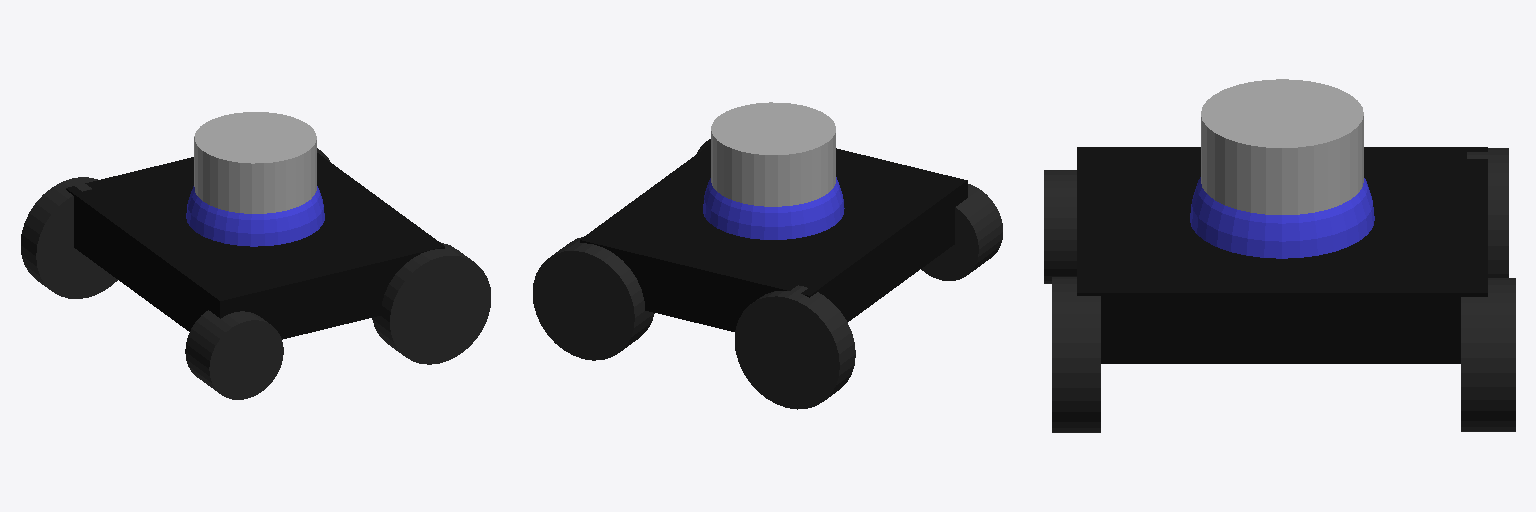
URDF robot description (evolved_robot):
<?xml version="1.0"?>
<robot name="evolved_robot">
  <material name="metal">
    <color rgba="0.7 0.7 0.7 1.0"/>
  </material>
  <material name="plastic">
    <color rgba="0.3 0.3 0.9 1.0"/>
  </material>
  <material name="rubber">
    <color rgba="0.1 0.1 0.1 1.0"/>
  </material>
  <material name="red">
    <color rgba="1.0 0.0 0.0 1.0"/>
  </material>
  <material name="wheel_material">
    <color rgba="0.2 0.2 0.2 1.0"/>
  </material>
  <link name="base_link">
    <visual>
      <geometry><box size="0.31868811290000654 0.3792780450720862 0.07231409833017642"/></geometry>
      <material name="rubber"/>
    </visual>
    <collision>
      <geometry><box size="0.31868811290000654 0.3792780450720862 0.07231409833017642"/></geometry>
    </collision>
    <inertial>
      <mass value="5.0"/>
      <inertia ixx="0.12423430357584153" ixy="0" ixz="0" 
               iyy="0.08899286843422811" iyz="0" 
               izz="0.2045116239812256"/>
    </inertial>
  </link>
  <link name="link1">
    <visual>
      <geometry><sphere radius="0.08527737862329111"/></geometry>
      <material name="plastic"/>
    </visual>
    <collision>
      <geometry><sphere radius="0.08527737862329111"/></geometry>
    </collision>
    <inertial>
      <mass value="0.5"/>
      <inertia ixx="0.0029088925219440593" ixy="0" ixz="0" 
               iyy="0.0029088925219440593" iyz="0" 
               izz="0.0029088925219440593"/>
    </inertial>
  </link>
  <joint name="joint1" type="revolute">
    <parent link="base_link"/>
    <child link="link1"/>
    <origin xyz="0 0 0.03615704916508821" rpy="0 0 0"/>
    <axis xyz="-0.4916056793405732 -0.6820093759715992 0.5414675125313831"/>
    <dynamics damping="0.8212211505894433" friction="0.1"/>
    <limit lower="-1.7792998006709766" upper="1.4960121739306087" effort="100" velocity="100"/>
  </joint>
  <link name="link2">
    <visual>
      <geometry>
        <cylinder radius="0.07097114032061219" length="0.050351103594577395"/>
      </geometry>
      <material name="wheel_material"/>
    </visual>
    <collision>
      <geometry>
        <cylinder radius="0.07097114032061219" length="0.050351103594577395"/>
      </geometry>
    </collision>
    <inertial>
      <mass value="1.0"/>
      <inertia ixx="0.0014704951590346618" ixy="0" ixz="0" 
               iyy="0.0014704951590346618" iyz="0" 
               izz="0.002518451379204013"/>
    </inertial>
  </link>
  <joint name="joint2" type="continuous">
    <parent link="base_link"/>
    <child link="link2"/>
    <origin xyz="0.13934405645000328 0.1896390225360431 -0.03615704916508821" rpy="1.5708 0 0"/>
    <axis xyz="0 1 0"/>
    <dynamics damping="0.9114541544746585" friction="0.1"/>
  </joint>
  <link name="link3">
    <visual>
      <geometry>
        <cylinder radius="0.07202321520114786" length="0.04571595030227395"/>
      </geometry>
      <material name="wheel_material"/>
    </visual>
    <collision>
      <geometry>
        <cylinder radius="0.07202321520114786" length="0.04571595030227395"/>
      </geometry>
    </collision>
    <inertial>
      <mass value="1.0"/>
      <inertia ixx="0.0014709982246477126" ixy="0" ixz="0" 
               iyy="0.0014709982246477126" iyz="0" 
               izz="0.0025936717639554285"/>
    </inertial>
  </link>
  <joint name="joint3" type="continuous">
    <parent link="base_link"/>
    <child link="link3"/>
    <origin xyz="0.13934405645000328 -0.1896390225360431 -0.03615704916508821" rpy="1.5708 0 0"/>
    <axis xyz="0 1 0"/>
    <dynamics damping="0.47926926660158287" friction="0.1"/>
  </joint>
  <link name="link4">
    <visual>
      <geometry><cylinder radius="0.07517385326990765" length="0.11537410210458039"/></geometry>
      <material name="metal"/>
    </visual>
    <collision>
      <geometry><cylinder radius="0.07517385326990765" length="0.11537410210458039"/></geometry>
    </collision>
    <inertial>
      <mass value="0.5"/>
      <inertia ixx="0.0025220423402312463" ixy="0" ixz="0" 
               iyy="0.0025220423402312463" iyz="0" 
               izz="0.0028255541077228026"/>
    </inertial>
  </link>
  <joint name="joint4" type="revolute">
    <parent link="base_link"/>
    <child link="link4"/>
    <origin xyz="0 0 0.0861570491650882" rpy="0 0 0"/>
    <axis xyz="0.01314496839488213 0.9990852397421637 -0.04069267176336153"/>
    <dynamics damping="0.9696960948946988" friction="0.1"/>
    <limit lower="-1.364467053086561" upper="1.4241059923867079" effort="100" velocity="100"/>
  </joint>
  <link name="link5">
    <visual>
      <geometry>
        <cylinder radius="0.07305448652505409" length="0.03844728117570642"/>
      </geometry>
      <material name="wheel_material"/>
    </visual>
    <collision>
      <geometry>
        <cylinder radius="0.07305448652505409" length="0.03844728117570642"/>
      </geometry>
    </collision>
    <inertial>
      <mass value="1.0"/>
      <inertia ixx="0.001457422286176813" ixy="0" ixz="0" 
               iyy="0.001457422286176813" iyz="0" 
               izz="0.0026684790007196544"/>
    </inertial>
  </link>
  <joint name="joint5" type="continuous">
    <parent link="base_link"/>
    <child link="link5"/>
    <origin xyz="-0.13934405645000328 0.1896390225360431 -0.03615704916508821" rpy="1.5708 0 0"/>
    <axis xyz="0 1 0"/>
    <dynamics damping="0.7473237405493297" friction="0.1"/>
  </joint>
  <link name="link6">
    <visual>
      <geometry>
        <cylinder radius="0.05277191906879772" length="0.05907795725705198"/>
      </geometry>
      <material name="wheel_material"/>
    </visual>
    <collision>
      <geometry>
        <cylinder radius="0.05277191906879772" length="0.05907795725705198"/>
      </geometry>
    </collision>
    <inertial>
      <mass value="1.0"/>
      <inertia ixx="0.0009870692800231058" ixy="0" ixz="0" 
               iyy="0.0009870692800231058" iyz="0" 
               izz="0.0013924377211018682"/>
    </inertial>
  </link>
  <joint name="joint6" type="continuous">
    <parent link="base_link"/>
    <child link="link6"/>
    <origin xyz="-0.13934405645000328 -0.1896390225360431 -0.03615704916508821" rpy="1.5708 0 0"/>
    <axis xyz="0 1 0"/>
    <dynamics damping="0.5175901269922821" friction="0.1"/>
  </joint>
</robot>

--- What the picture shows (computed from the rendered views, not written in the file) ---
3 views of the same robot in one strip: view 1: azimuth 30°, elevation 25°; view 2: azimuth 150°, elevation 25°; view 3: azimuth 270°, elevation 25° (orthographic).
Model evolved_robot with 7 links and 6 joints (2 revolute, 4 continuous), rooted at base_link, posed all joints at 0.
Links seen in each view (by area): view 1: base_link, link4, link3, link6, link5, link1; view 2: base_link, link4, link5, link2, link1, link6; view 3: base_link, link4, link1, link2, link3, link6, link5.
Boxes of the visible links, x1,y1,x2,y2 form: base_link: (66,153,444,339); link4: (194,112,316,213); link3: (372,242,490,364); link6: (185,310,283,399); link5: (21,177,117,298); link1: (186,186,324,246); base_link: (580,144,967,331); link4: (711,102,835,206); link5: (735,285,855,409); link2: (533,237,654,360); link1: (703,177,844,239); link6: (921,184,1002,280); base_link: (1077,147,1487,363); link4: (1201,79,1363,214); link1: (1190,177,1374,258); link2: (1461,278,1515,431); link3: (1052,277,1100,432); link6: (1044,170,1076,283); link5: (1467,148,1508,277).
Size in the robot's own frame: 0.4238 by 0.434 by 0.2531 metres.
Geometry: primitives only (box / cylinder / sphere), no mesh files.